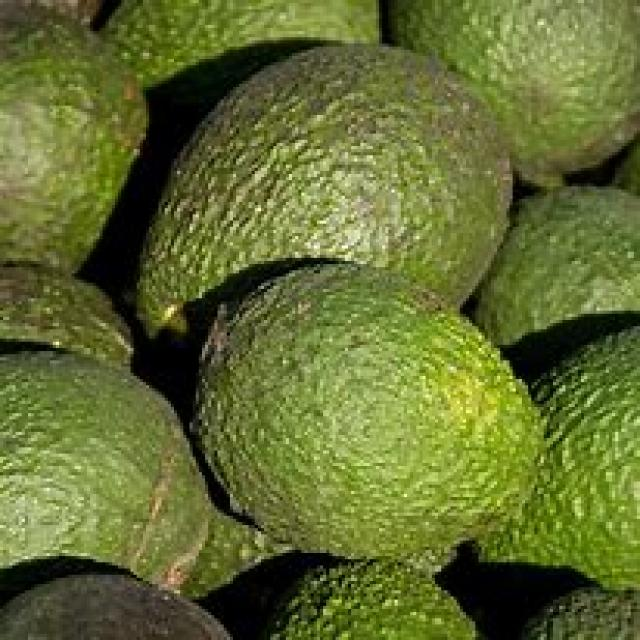Avocado: (136, 25, 526, 341), (188, 265, 554, 576), (0, 338, 242, 581), (0, 28, 155, 283), (544, 320, 640, 604), (484, 183, 640, 344)
